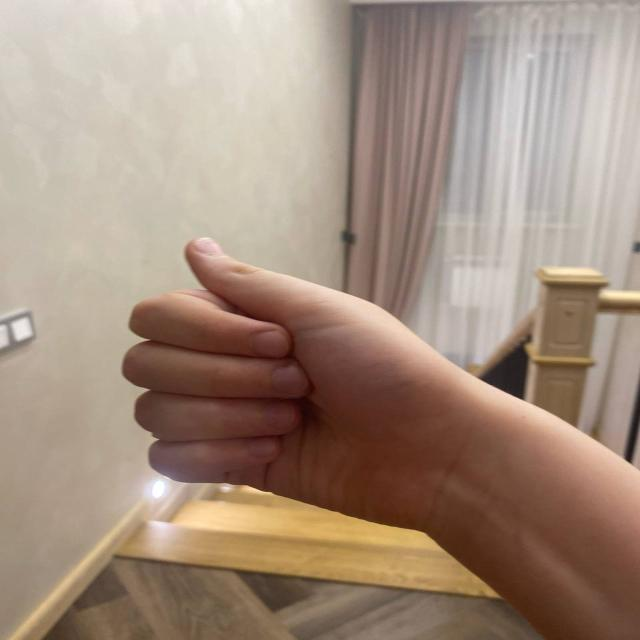a: (133, 225, 444, 513)
